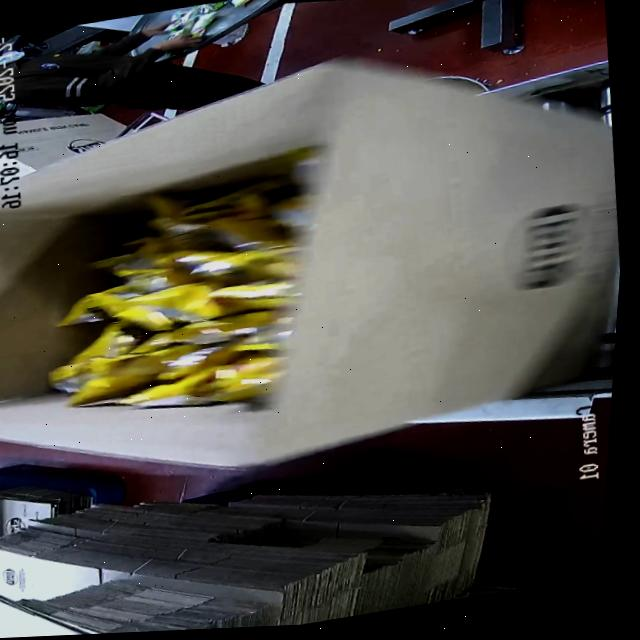SALTED: (16, 155, 340, 430)
